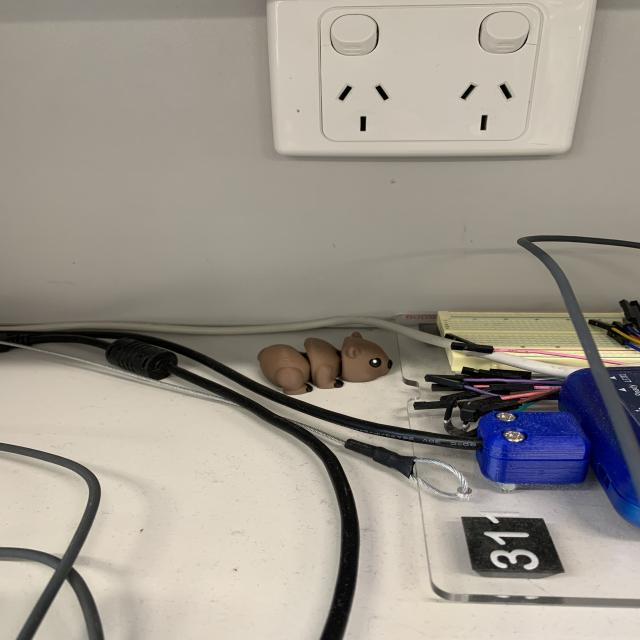wombat: (245, 323, 402, 404)
